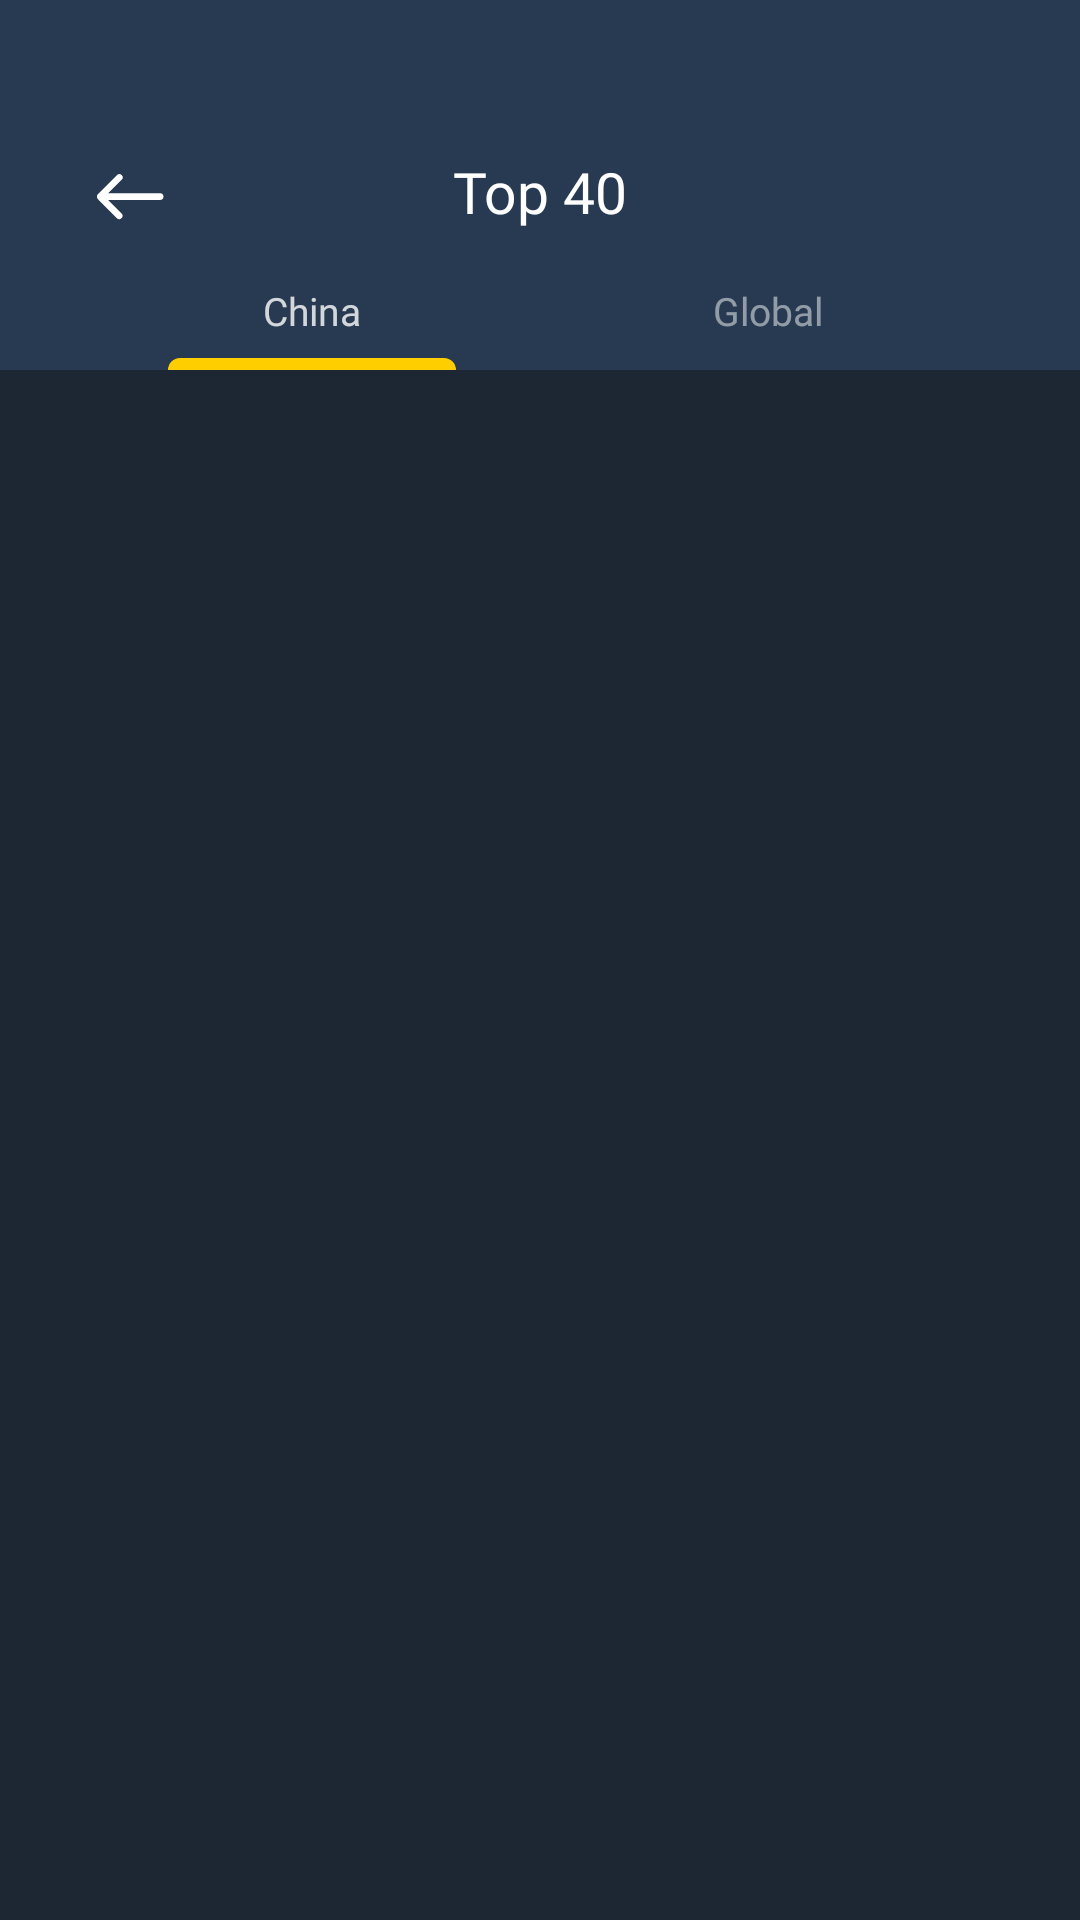

Icons on this 1080w x 1920h Android screen, each with its box as BBox(x1, y1, x2, y2):
arrow: BBox(97, 174, 164, 220)
